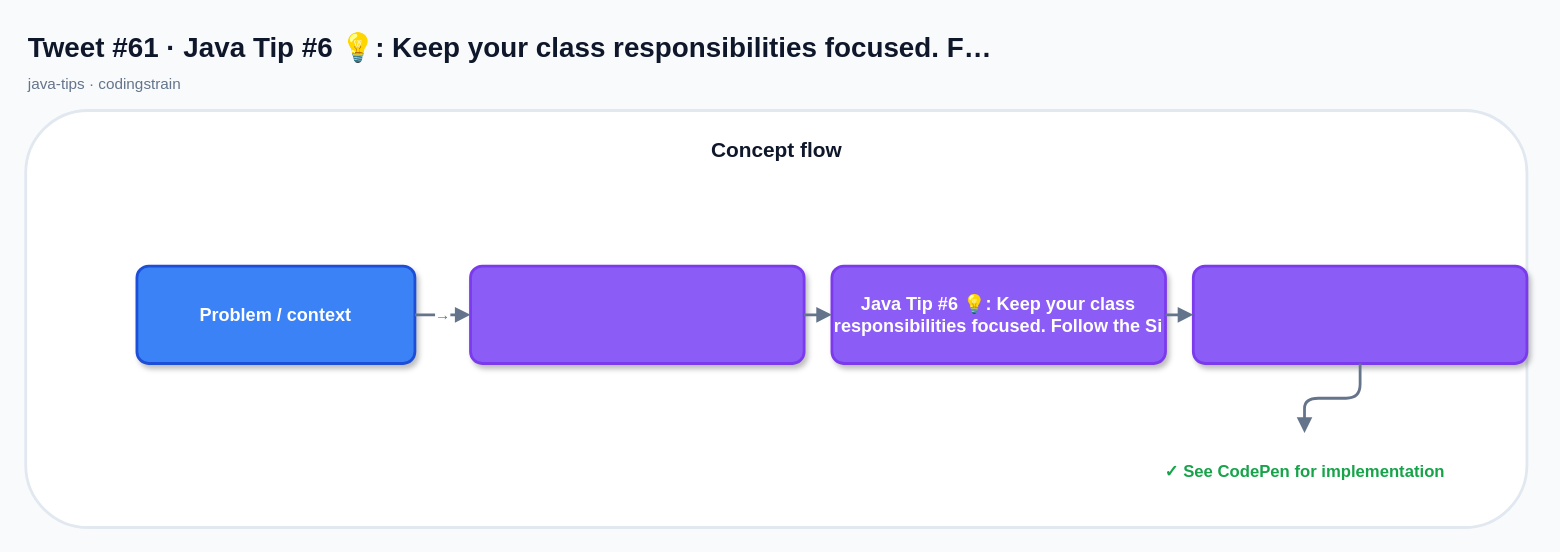
Image size: 1560x552. Some labels were removed from this diagram. The shapes that lost their labels are listed below. From the top down, each one's centre as x and y in pixels, then its label:
At point 638,316: "💡 Java Tip #6 💡: Keep your class responsibilities focused. Follow the".
At point 1361,316: "Runnable sample: `java-tips`".
